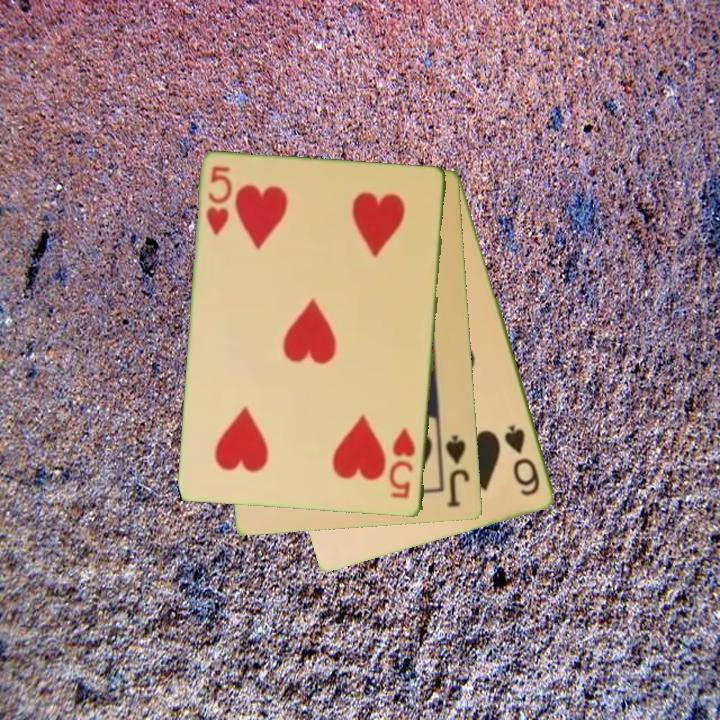5h: (387, 424, 419, 502), (203, 163, 235, 239)
6s: (501, 422, 543, 500)
Js: (443, 431, 473, 510)
